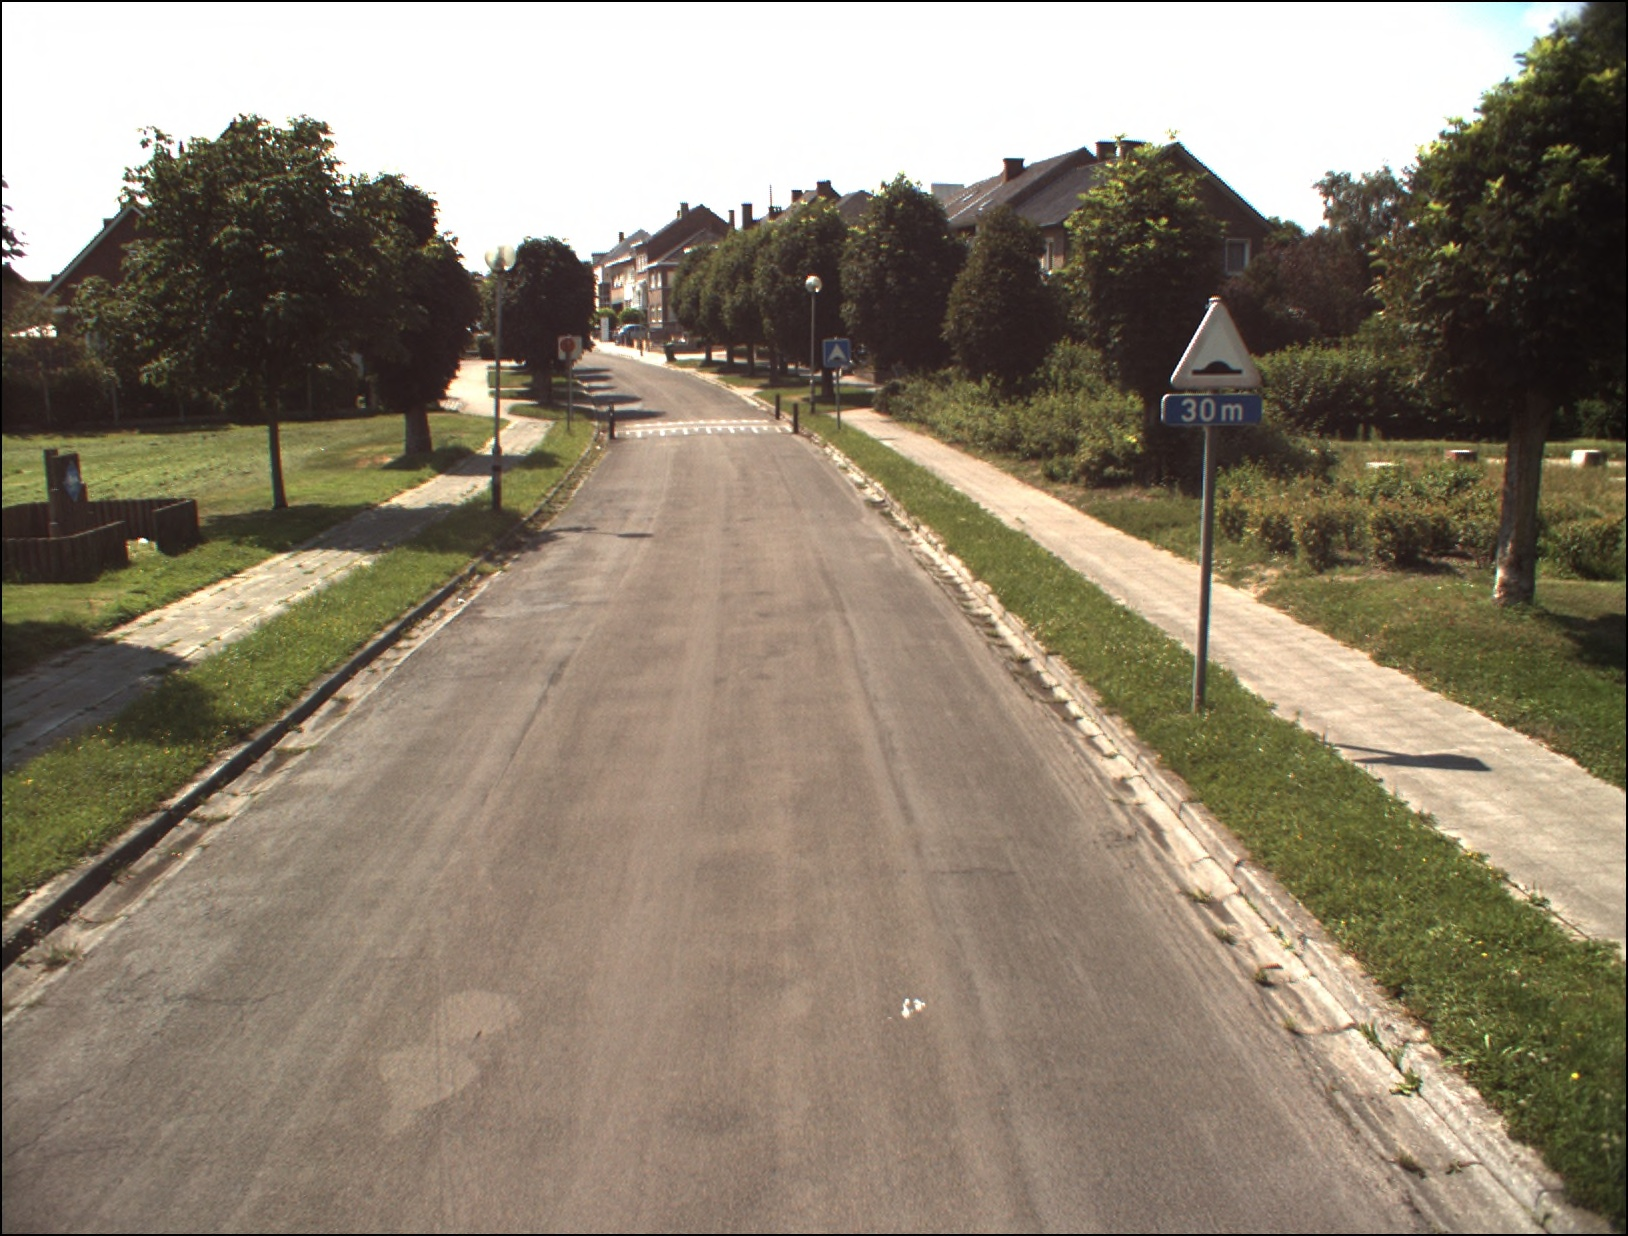speedbump: (1170, 299, 1267, 391)
